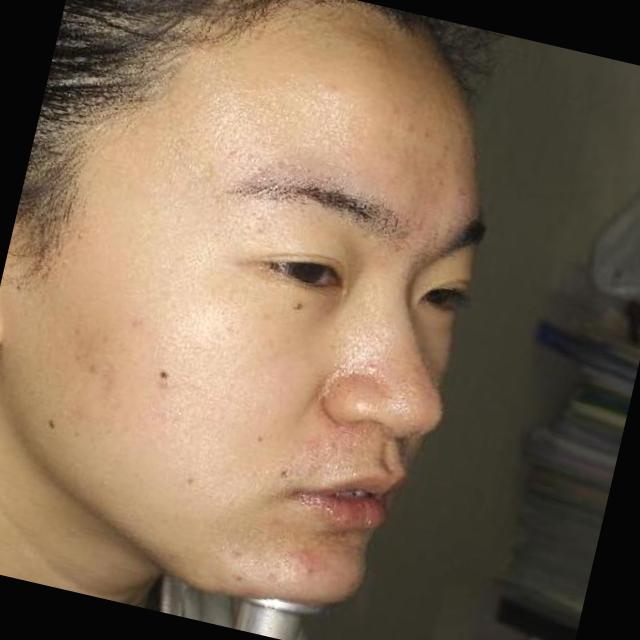nodules: (300, 562, 316, 577)
